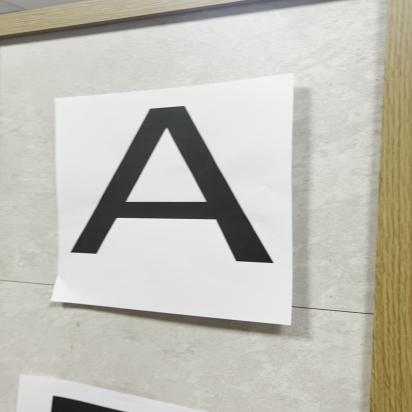seat: (65, 107, 299, 272)
